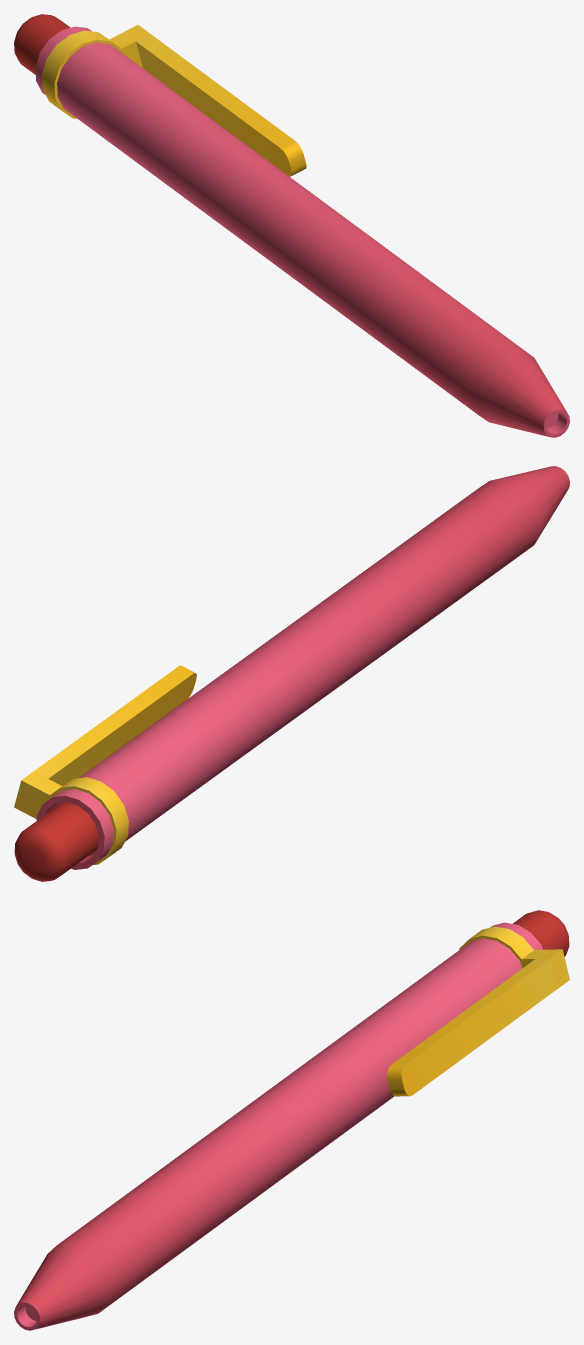
The model's file is Pen .fbx.
The picture shows the model from 3 angles, top to bottom: view 1: azimuth 30°, elevation 25°; view 2: azimuth 150°, elevation 25°; view 3: azimuth 330°, elevation 25°; orthographic projection.
Parts seen in each view (by area): view 1: Cylinder.113; view 2: Cylinder.113; view 3: Cylinder.113.
Boxes of the visible parts, box(x1,y1,x2,y2) form: Cylinder.113: box(14, 14, 569, 437); Cylinder.113: box(14, 466, 569, 881); Cylinder.113: box(14, 910, 569, 1330).
Bounding box in the file's own units: 13.31 × 9.6 × 117.
